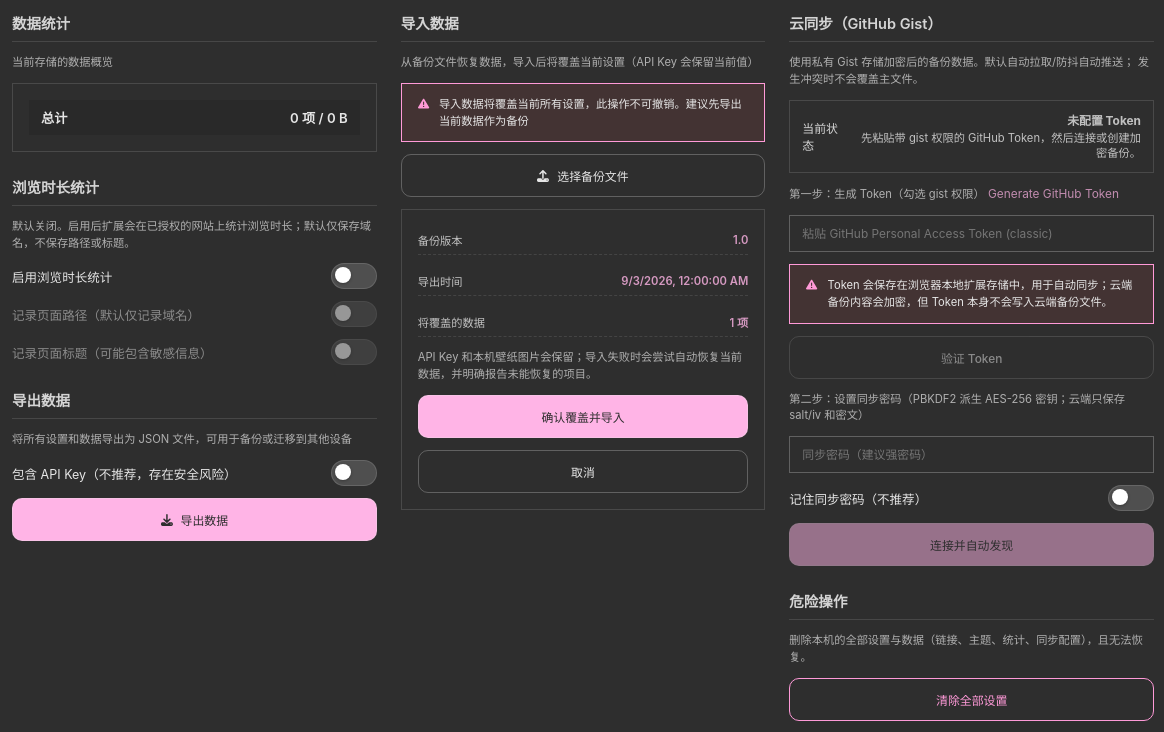
it: DataSettings destructive replacement guard › blocks import drafts without reporting a replacement as busy
The image size is (1164, 732).
Earlier steps of the test are not shown.
Click the button "确认覆盖并导入": click(583, 417) [418,395,748,438]
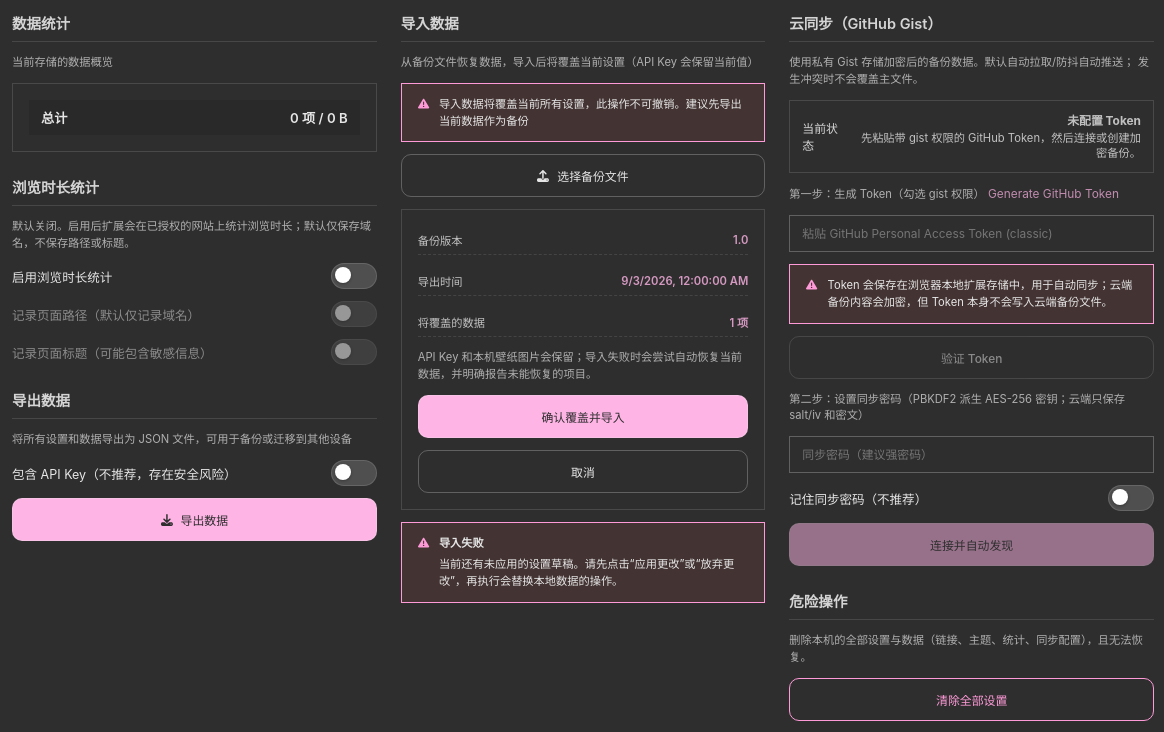
Now the text "当前还有未应用的设置草稿" is shown, box [439,557,734,588]
